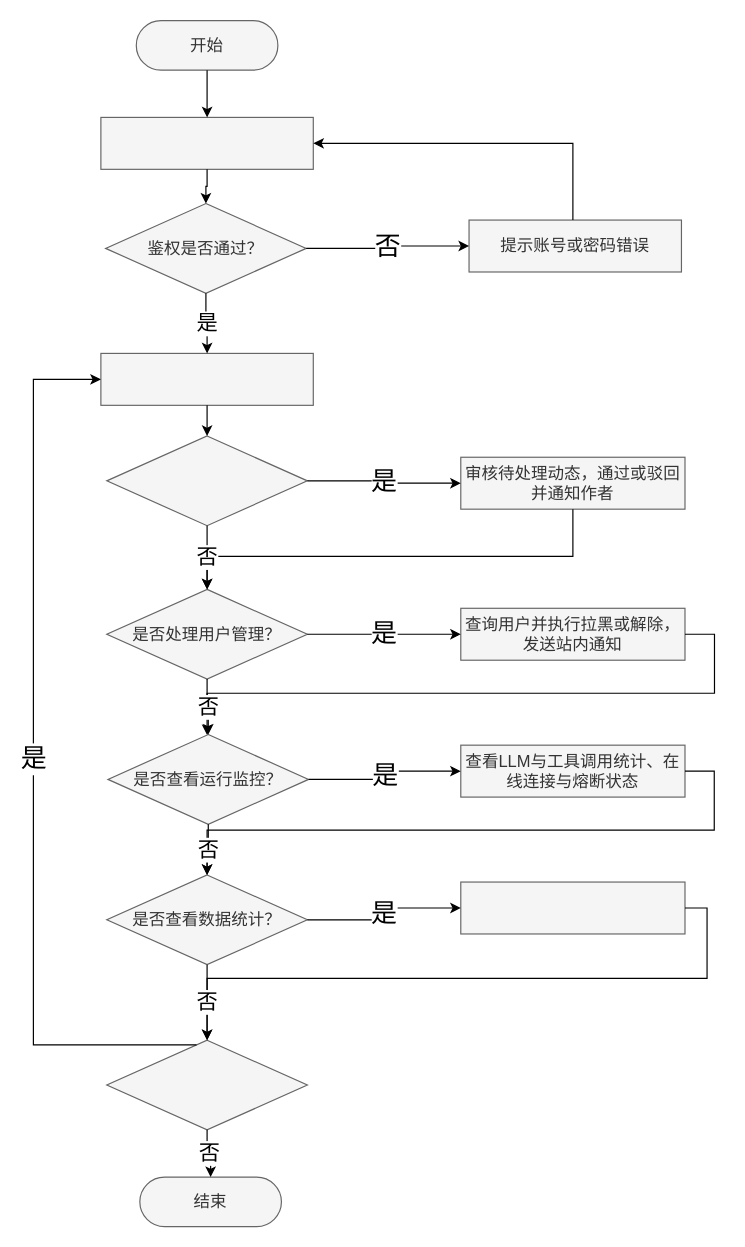
Some shapes in this 745 by 1247 pixel diagram are drawn without their labels. The centre of each missing label's shape, as x and y in pixels:
"是否处理内容审核？" belongs at (x=206, y=480).
"是否继续管理？" belongs at (x=206, y=1084).
"查看用户、动态、行程总量统计" belongs at (x=572, y=907).
"管理员输入账号密码" belongs at (x=206, y=142).
"进入管理后台首页" belongs at (x=206, y=378).
